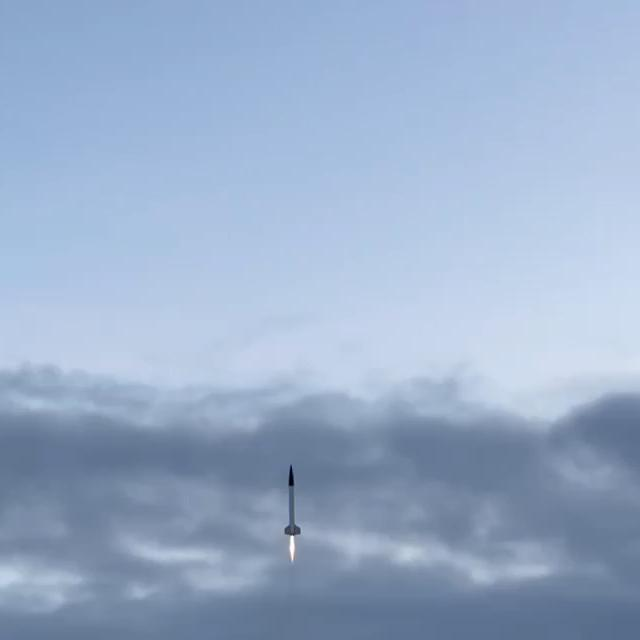rocket: (284, 465, 301, 562)
